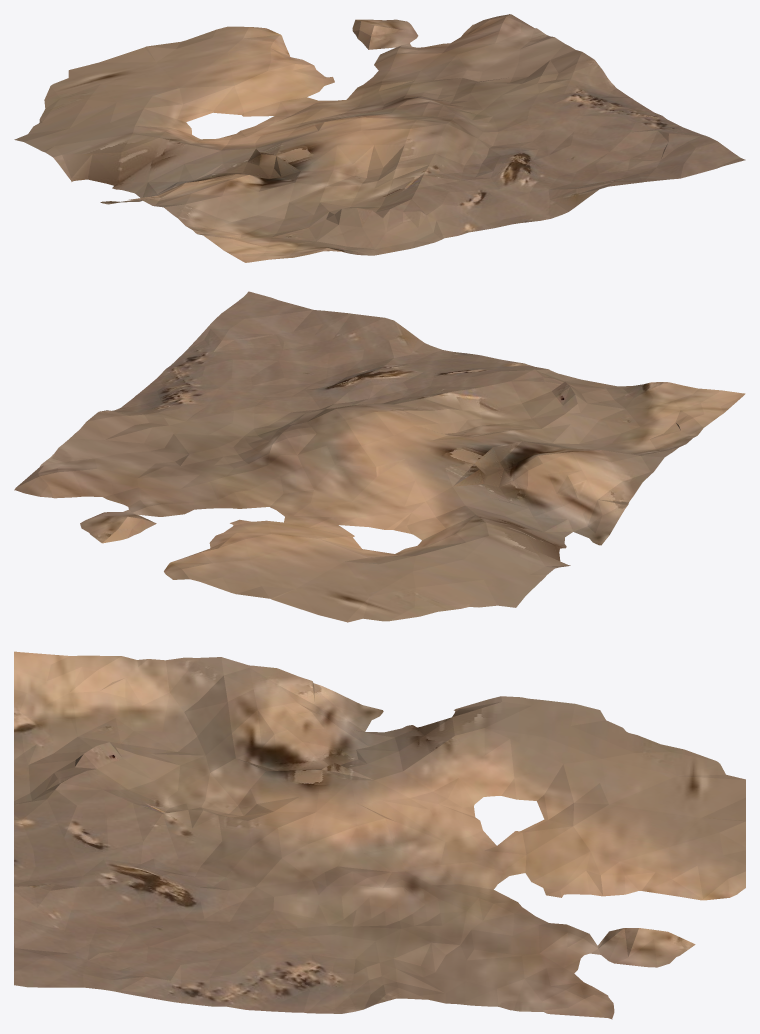
3 renders of one model, top to bottom at view 1: azimuth 30°, elevation 25°; view 2: azimuth 150°, elevation 25°; view 3: azimuth 270°, elevation 25°, orthographic. The views are drawn at different scales.
Bounding box in the file's own units: 1.04 × 0.0924 × 1.04.
2 materials, 2 textured.
